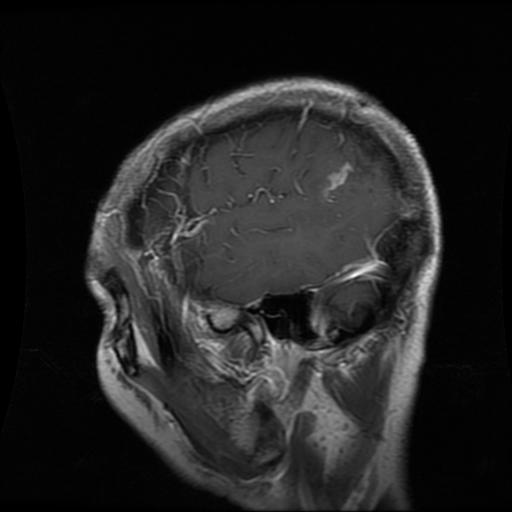Gliomia_tumour: (319, 158, 353, 200)
